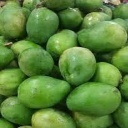mango: (17, 75, 70, 108)
